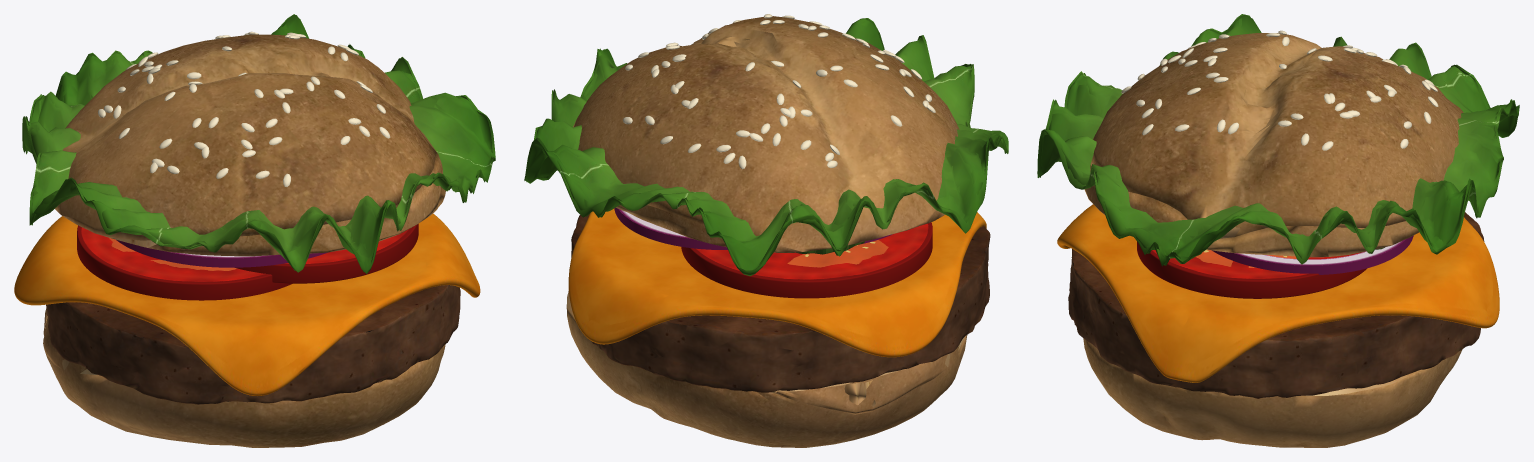
The model's file is classic-burger.glb.
3 renders of one model, left to right at view 1: azimuth 30°, elevation 25°; view 2: azimuth 150°, elevation 25°; view 3: azimuth 270°, elevation 25°, orthographic.
Parts seen in each view (by area): view 1: bun-top, cheese, lettuce, patty, bun-bottom, tomato, onion; view 2: bun-top, cheese, lettuce, patty, bun-bottom, tomato, onion; view 3: bun-top, cheese, lettuce, patty, bun-bottom, tomato, onion.
Boxes of the visible parts, <box> form: bun-top: <box>55,31,445,256</box>; cheese: <box>14,213,480,395</box>; lettuce: <box>22,14,495,273</box>; patty: <box>46,285,460,404</box>; bun-bottom: <box>43,308,445,447</box>; tomato: <box>77,224,418,300</box>; onion: <box>116,240,328,267</box>; bun-top: <box>573,14,959,252</box>; cheese: <box>568,208,986,357</box>; lettuce: <box>524,18,1008,275</box>; patty: <box>571,214,990,392</box>; bun-bottom: <box>566,290,967,447</box>; tomato: <box>681,222,932,298</box>; onion: <box>614,207,892,249</box>; bun-top: <box>1084,30,1463,257</box>; cheese: <box>1057,204,1499,382</box>; lettuce: <box>1037,14,1519,266</box>; patty: <box>1068,212,1484,398</box>; bun-bottom: <box>1083,338,1462,447</box>; tomato: <box>1137,241,1366,298</box>; onion: <box>1212,235,1413,274</box>.
Bounding box in the file's own units: 0.1296 × 0.0992 × 0.1303.
Materials: 11 (9 with a texture image).
